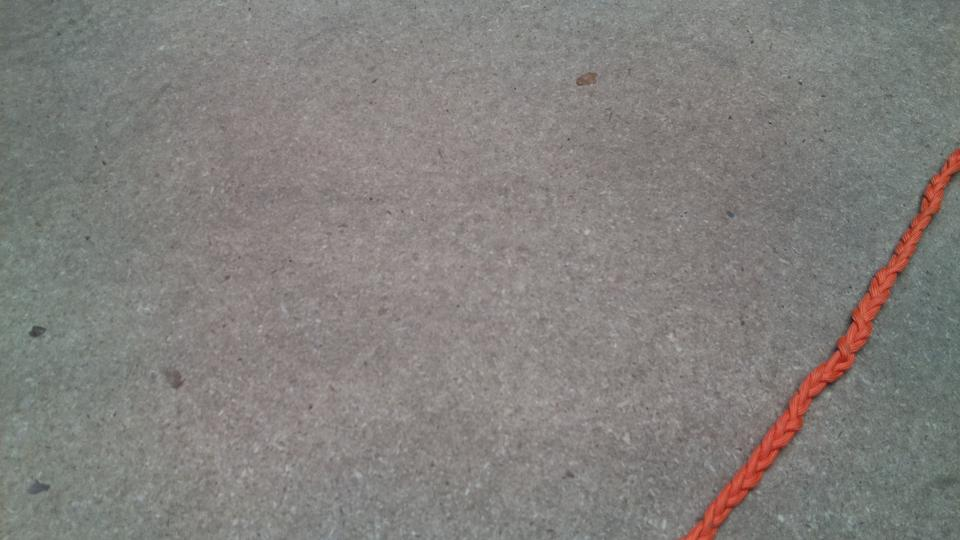rope: (681, 150, 959, 540)
